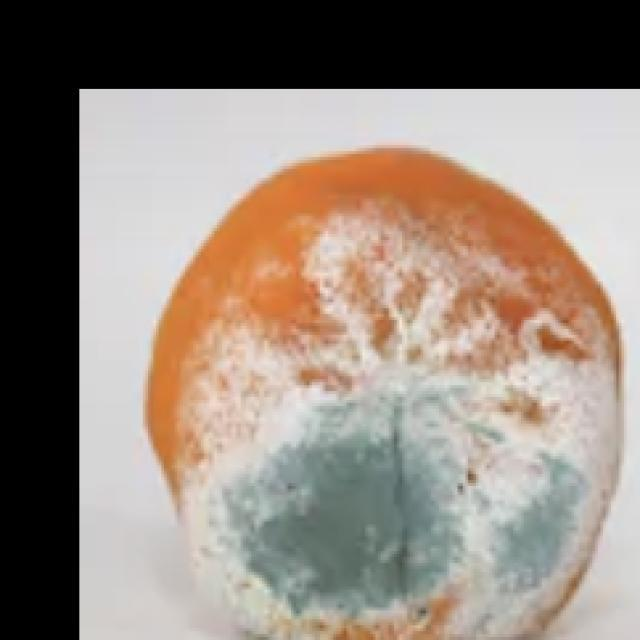sangat-busuk: (145, 148, 622, 639)
